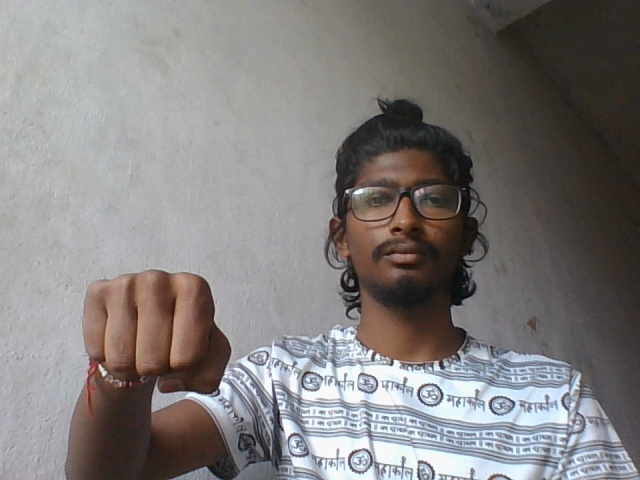Change: (70, 266, 242, 403)
